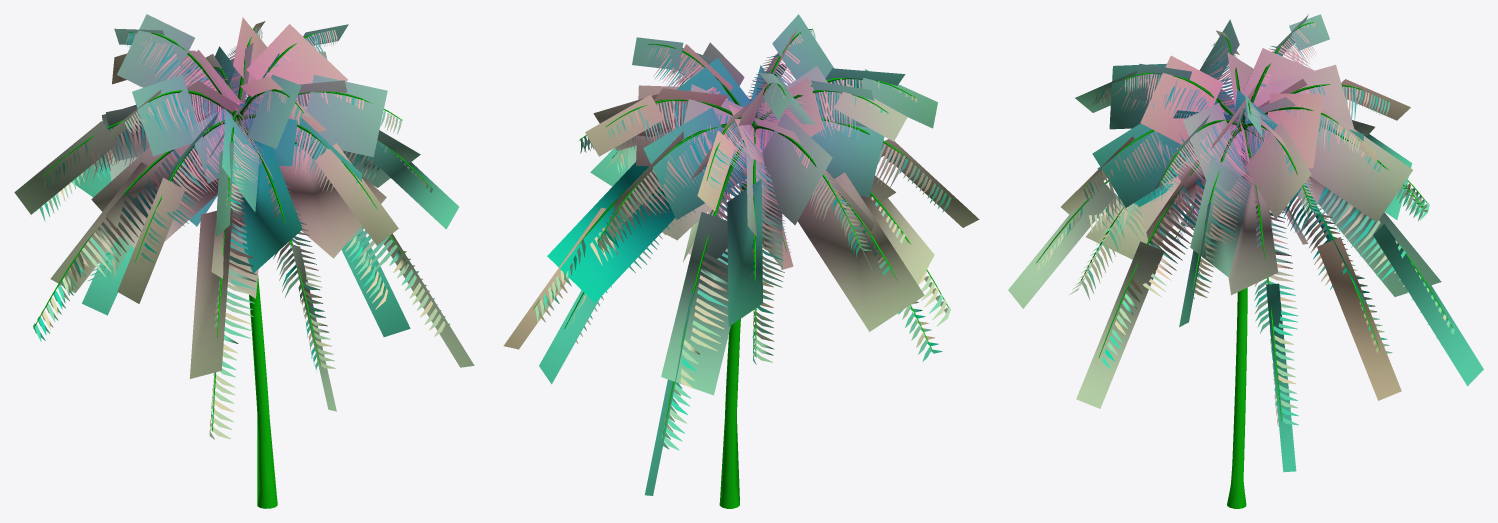
Rendered from coconut_2.glb.
3 views of the same model, side by side, from view 1: azimuth 30°, elevation 25°; view 2: azimuth 150°, elevation 25°; view 3: azimuth 270°, elevation 25° (orthographic). The views are drawn at different scales.
Visible parts, largest first — view 1: mid, near; view 2: mid, near; view 3: mid, near.
Part boxes in pixels (x1=…): mid: x1=14, y1=14, x2=474, y2=507; near: x1=30, y1=26, x2=450, y2=508; mid: x1=503, y1=14, x2=979, y2=507; near: x1=533, y1=28, x2=951, y2=508; mid: x1=1008, y1=14, x2=1483, y2=506; near: x1=1035, y1=22, x2=1454, y2=508.
Bounding box in the file's own units: 11.43 × 13.58 × 12.91.
